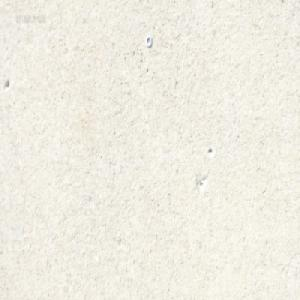Washer: (145, 35, 152, 47)
